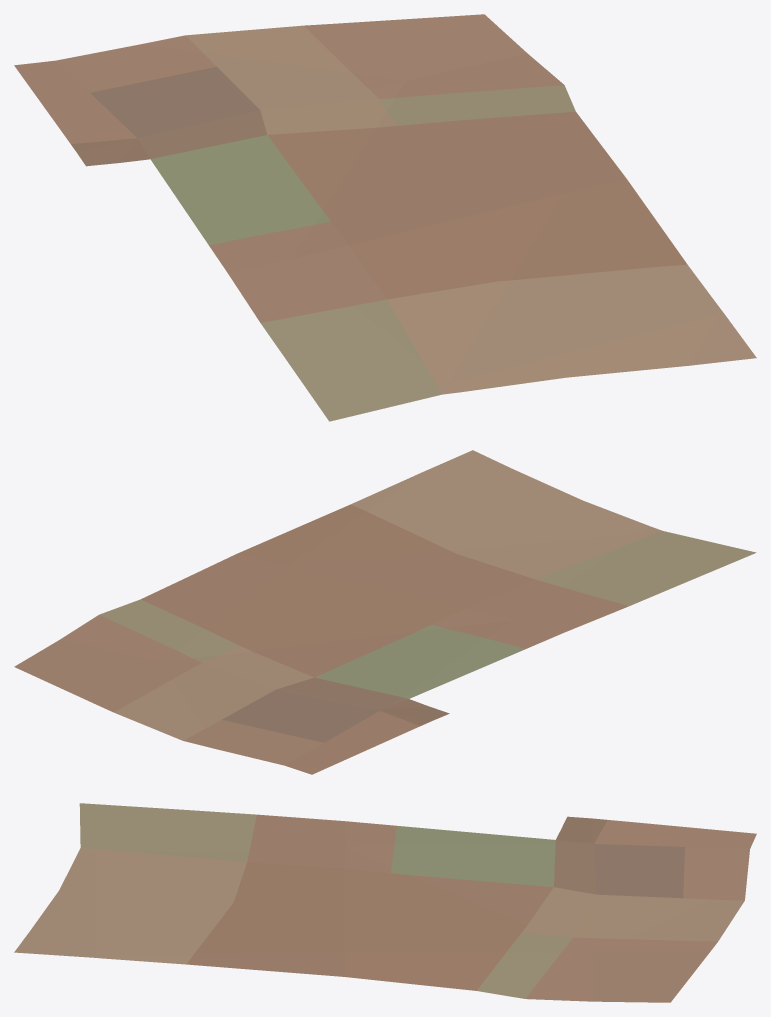
Rendered from farm_11_21_soil.glb.
3 renders of one model, top to bottom at view 1: azimuth 30°, elevation 25°; view 2: azimuth 150°, elevation 25°; view 3: azimuth 270°, elevation 25°, orthographic. The views are drawn at different scales.
Parts seen in each view (by area): view 1: geometry_0; view 2: geometry_0; view 3: geometry_0.
Part boxes in pixels (bbox=[...]): geometry_0: bbox=[14, 14, 756, 421]; geometry_0: bbox=[14, 450, 756, 774]; geometry_0: bbox=[14, 803, 756, 1002].
Size of the model in its own units: 156 by 4.88 by 240.
